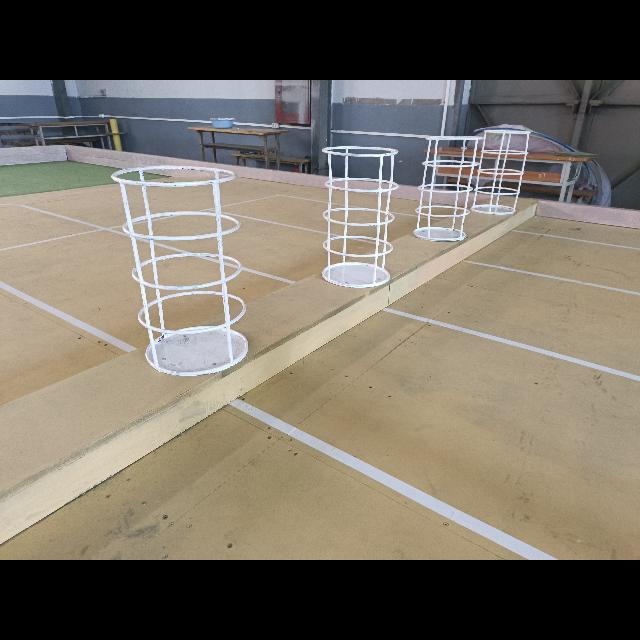S: (109, 160, 256, 381), (319, 142, 400, 290), (409, 132, 489, 245), (469, 128, 532, 216)
